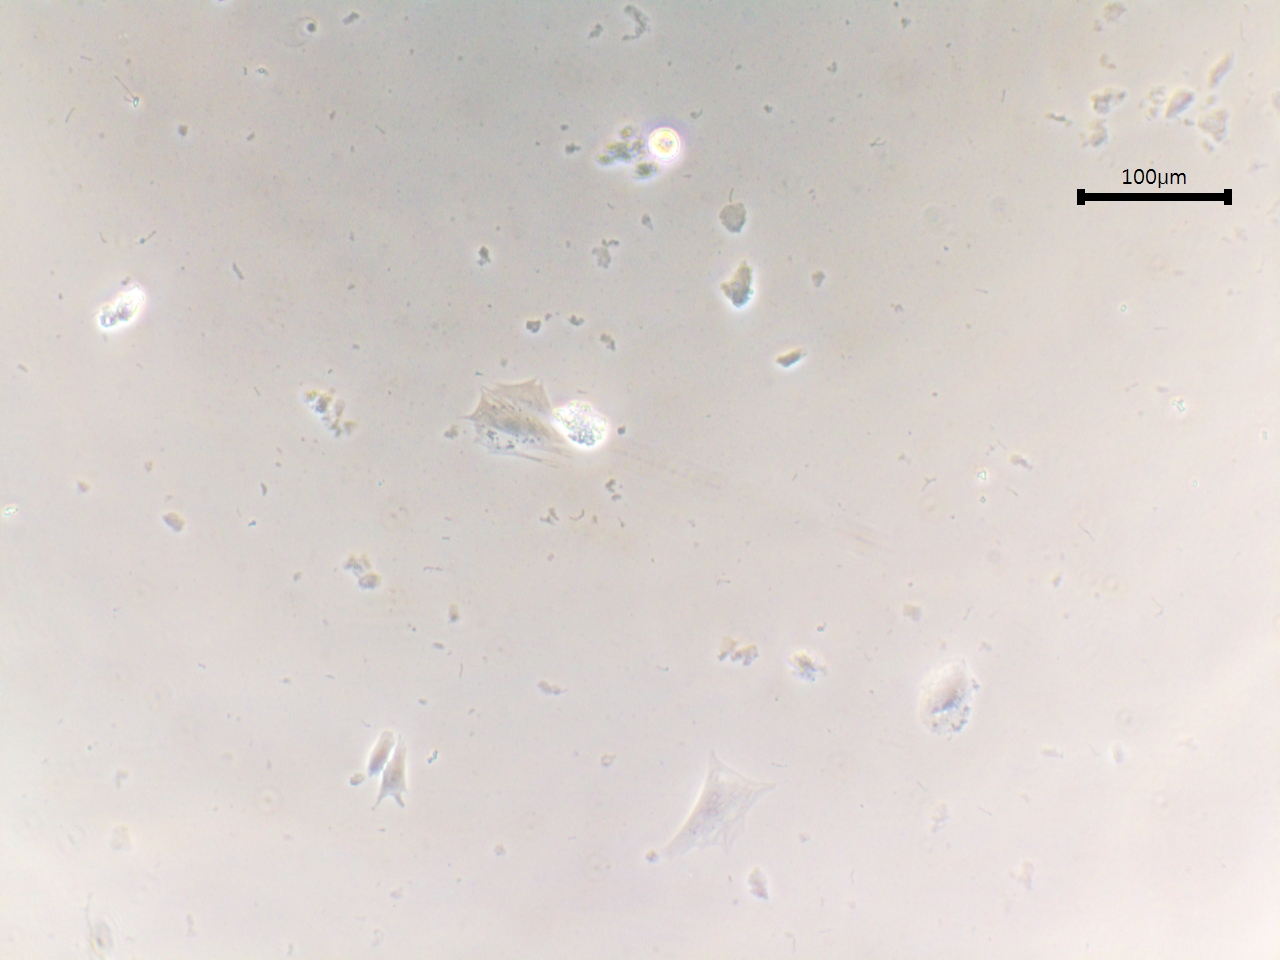medium-spread: (644, 759, 776, 866)
